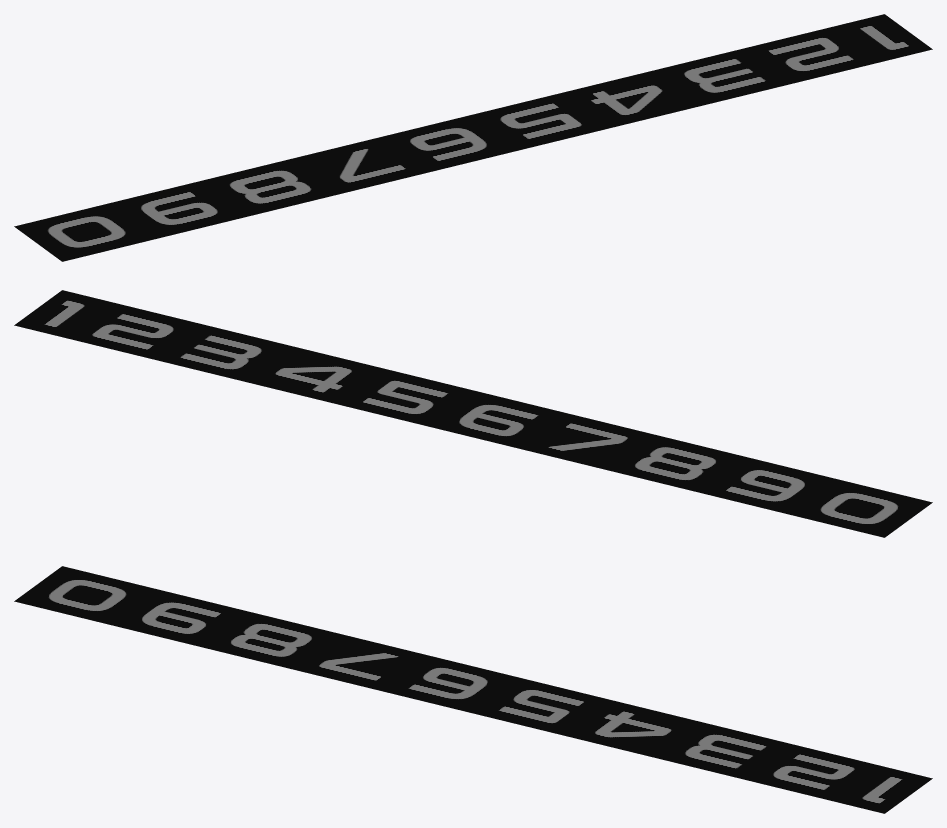
The model's file is Displays_FX.fbx.
3 views of the same model, one above another, from view 1: azimuth 30°, elevation 25°; view 2: azimuth 150°, elevation 25°; view 3: azimuth 330°, elevation 25° (orthographic).
Visible parts, largest first — view 1: N4, N0, N9, N7, N8, N5, N3, N6, N2, N1; view 2: N4, N0, N9, N7, N8, N5, N3, N6, N2, N1; view 3: N4, N0, N9, N7, N8, N5, N3, N6, N2, N1.
Part boxes in pixels (x1,y1,x2,y2): N4: (560,69,705,128); N0: (14,203,155,261); N9: (108,181,248,238); N7: (293,136,432,193); N8: (201,158,339,216); N5: (471,93,607,150); N3: (658,48,792,104); N6: (385,115,518,171); N2: (745,27,877,83); N1: (829,14,932,62); N4: (241,345,386,404); N0: (791,479,932,537); N9: (698,457,838,514); N7: (514,412,653,469); N8: (607,434,745,492); N5: (339,369,475,426); N3: (154,324,288,380); N6: (428,391,561,447); N2: (69,303,201,359); N1: (14,290,117,338); N4: (560,699,705,758); N0: (14,566,155,624); N9: (108,589,248,646); N7: (293,634,432,691); N8: (201,611,339,669); N5: (471,677,607,734); N3: (658,723,792,779); N6: (385,656,518,712); N2: (745,744,877,800); N1: (829,765,932,813).
Size of the model in its own units: 8 by 3.36e-08 by 0.7689.
